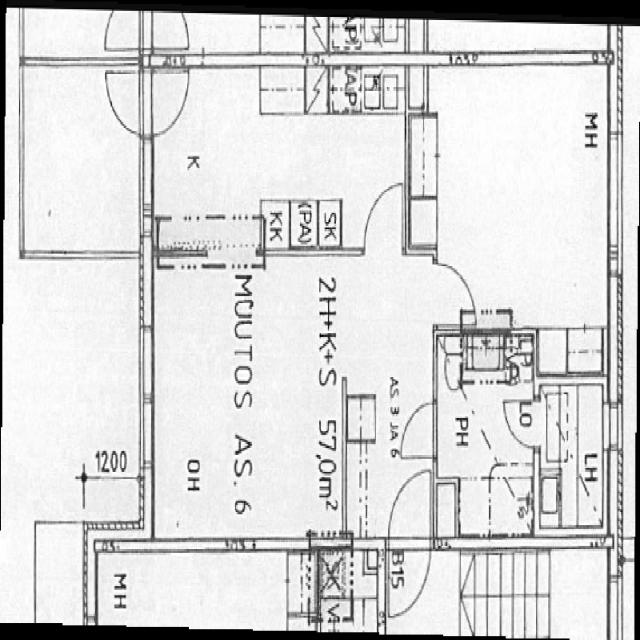door: (388, 463, 433, 549), (362, 172, 407, 256), (103, 66, 145, 136), (150, 66, 190, 138), (396, 396, 438, 464), (436, 259, 476, 324), (102, 6, 142, 60), (502, 397, 541, 451)
window: (135, 322, 157, 476), (27, 246, 142, 266), (603, 399, 623, 454)
zone: (149, 256, 348, 536), (146, 59, 413, 250), (433, 58, 612, 339), (0, 252, 143, 512), (436, 378, 542, 540), (537, 378, 607, 532), (318, 549, 388, 633), (501, 396, 543, 451)
